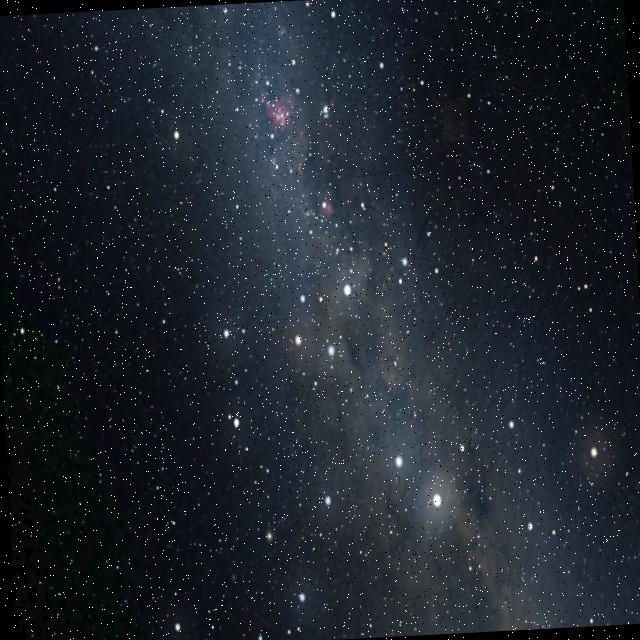Crux: (278, 282, 356, 362)
